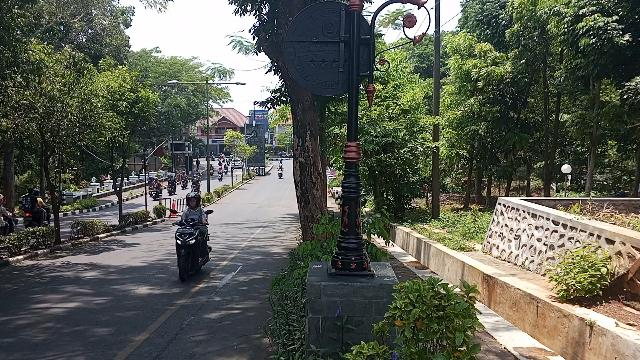helm: (188, 194, 202, 209)
motor: (172, 220, 213, 283)
